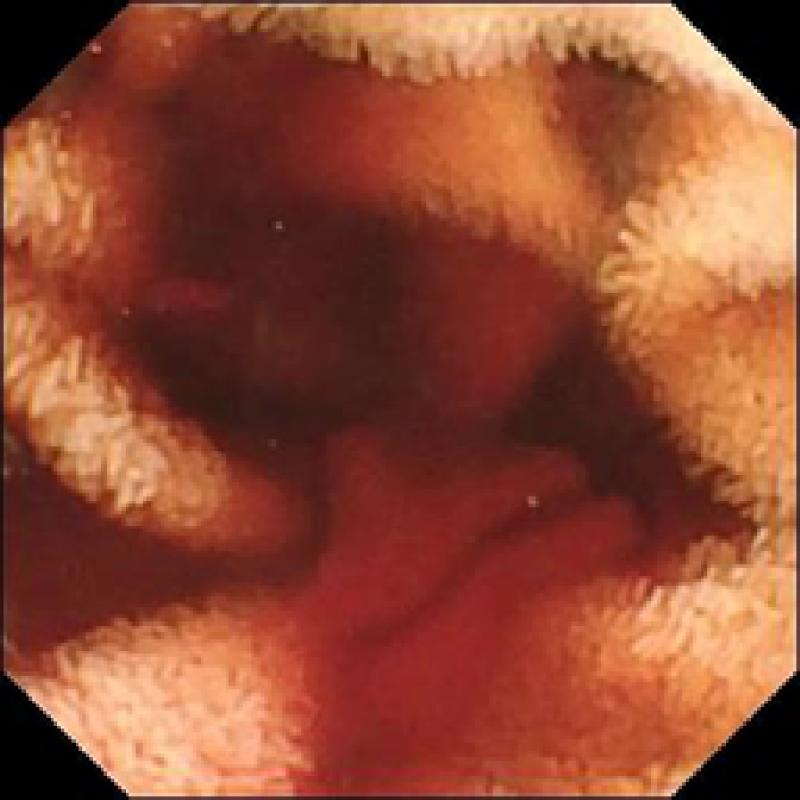bleeding: (300, 216, 635, 796), (0, 455, 214, 686), (72, 39, 207, 343), (266, 60, 391, 192)
